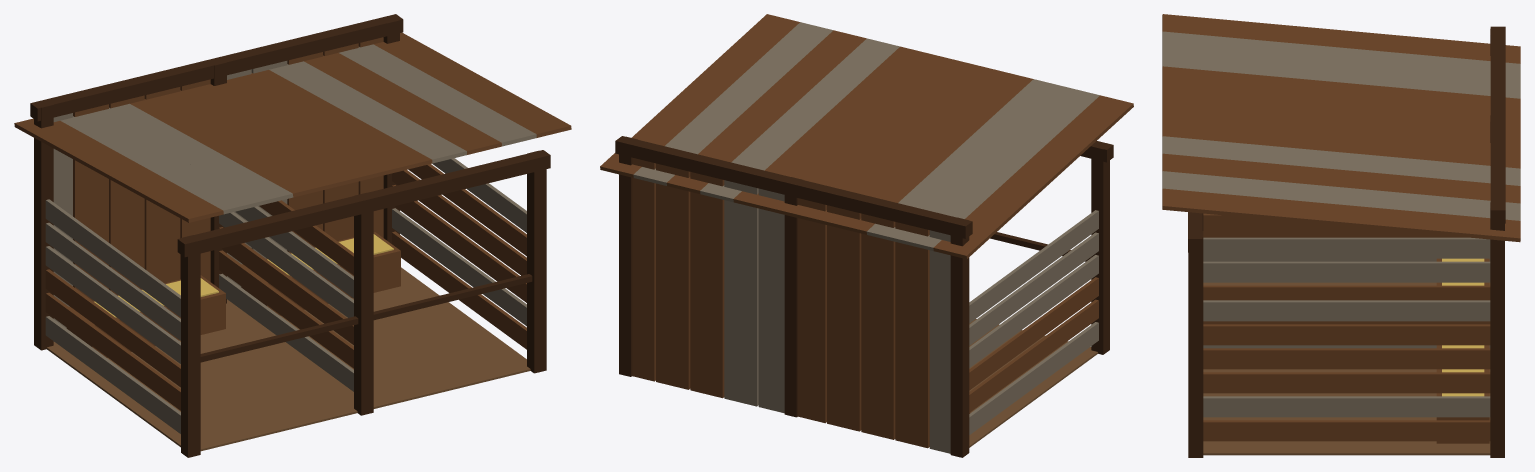
File: SM_Stable_Stall.obj
3 views of the same model, side by side, from view 1: azimuth 30°, elevation 25°; view 2: azimuth 150°, elevation 25°; view 3: azimuth 270°, elevation 25° (orthographic). The views are drawn at different scales.
Visible parts, largest first — view 1: SM_Stable_Stall; view 2: SM_Stable_Stall; view 3: SM_Stable_Stall.
Boxes of the visible parts, <box> form: SM_Stable_Stall: <box>14,14,571,457</box>; SM_Stable_Stall: <box>600,14,1133,457</box>; SM_Stable_Stall: <box>1162,14,1520,457</box>.
Size of the model in its own units: 4.29 by 2.69 by 3.39.
